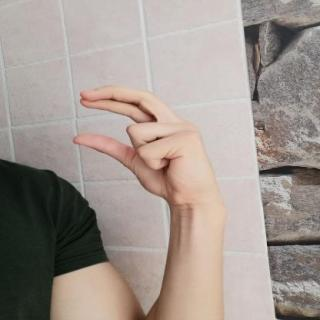DHELL: (65, 78, 229, 210)
